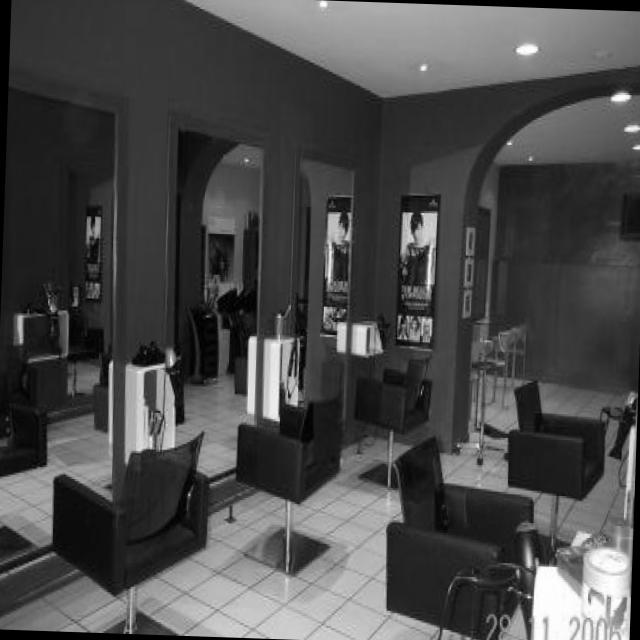armchair crop: (50, 427, 207, 631), (386, 433, 536, 640), (233, 393, 339, 574), (506, 376, 604, 566), (352, 354, 431, 488)
ceiling beam: (188, 0, 640, 95), (490, 92, 640, 164)
floor -X: (0, 370, 635, 640)
lamp crop: (514, 41, 535, 52), (609, 90, 628, 101), (623, 121, 638, 129), (418, 59, 425, 68)
mirror: (166, 104, 268, 485), (290, 141, 359, 438)
mirror occluded: (0, 62, 126, 574)
poster crop: (392, 190, 439, 346)
stand clothes: (122, 354, 173, 465), (261, 328, 299, 427)
wall clock: (372, 62, 640, 453), (488, 160, 640, 392), (472, 159, 500, 378)
